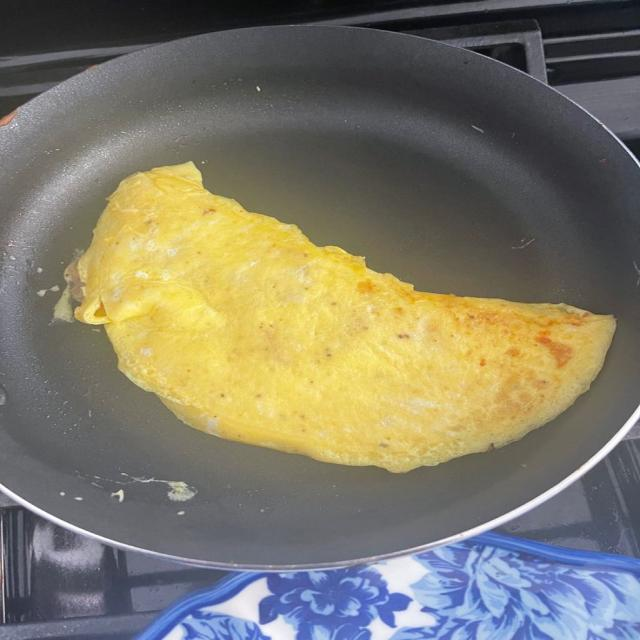omelette: (76, 163, 614, 471)
